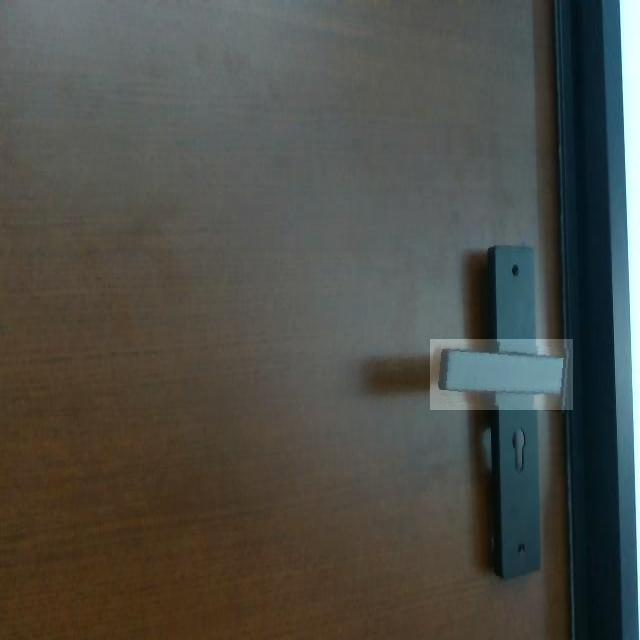doorhandle: (430, 339, 573, 410)
